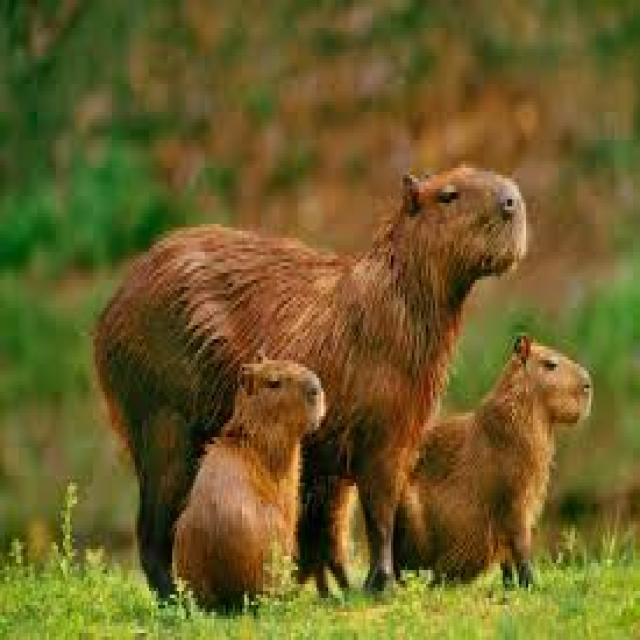capy: (100, 166, 525, 566), (392, 335, 598, 593), (182, 356, 325, 611)
